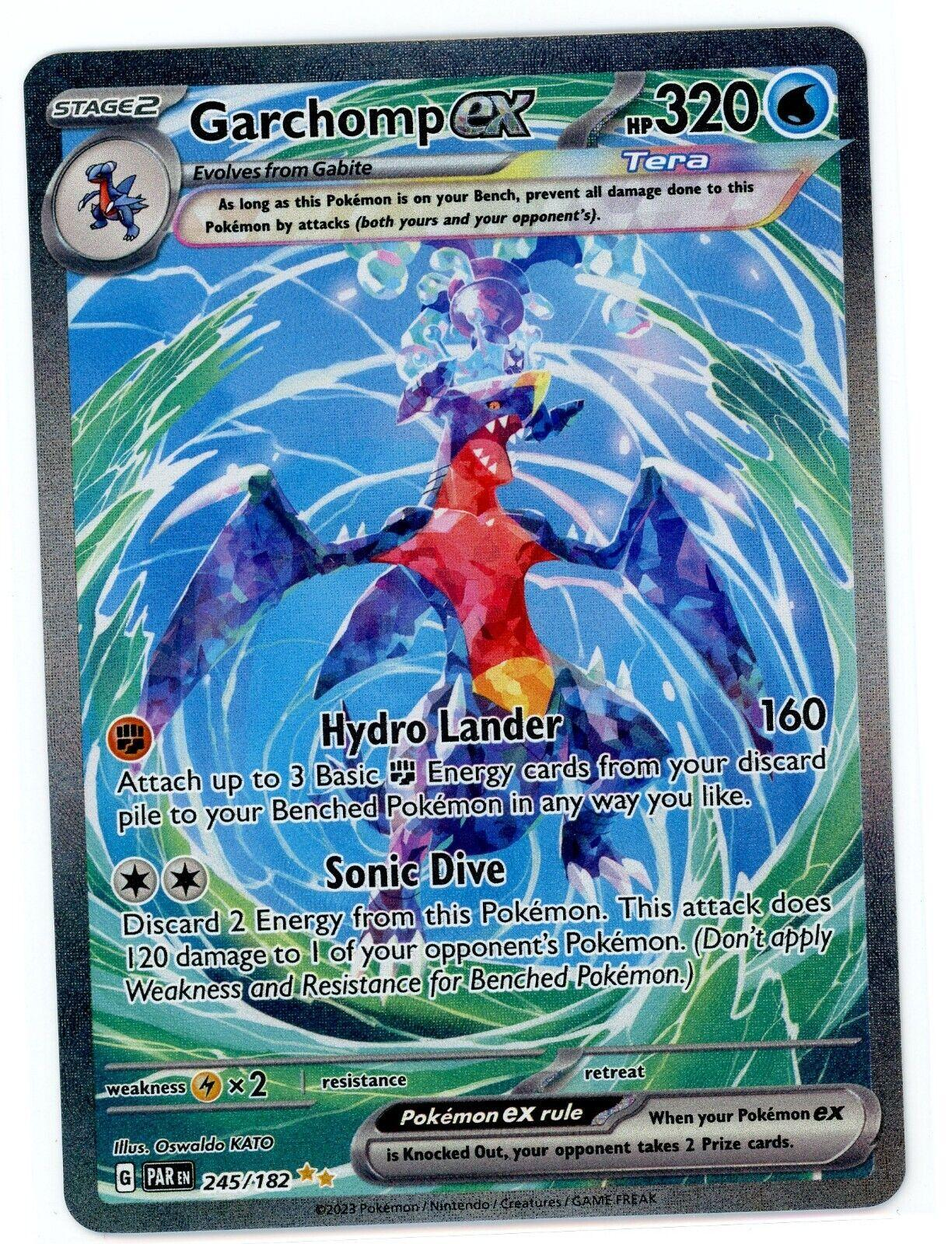card-2UtV: (23, 26, 906, 1233)
